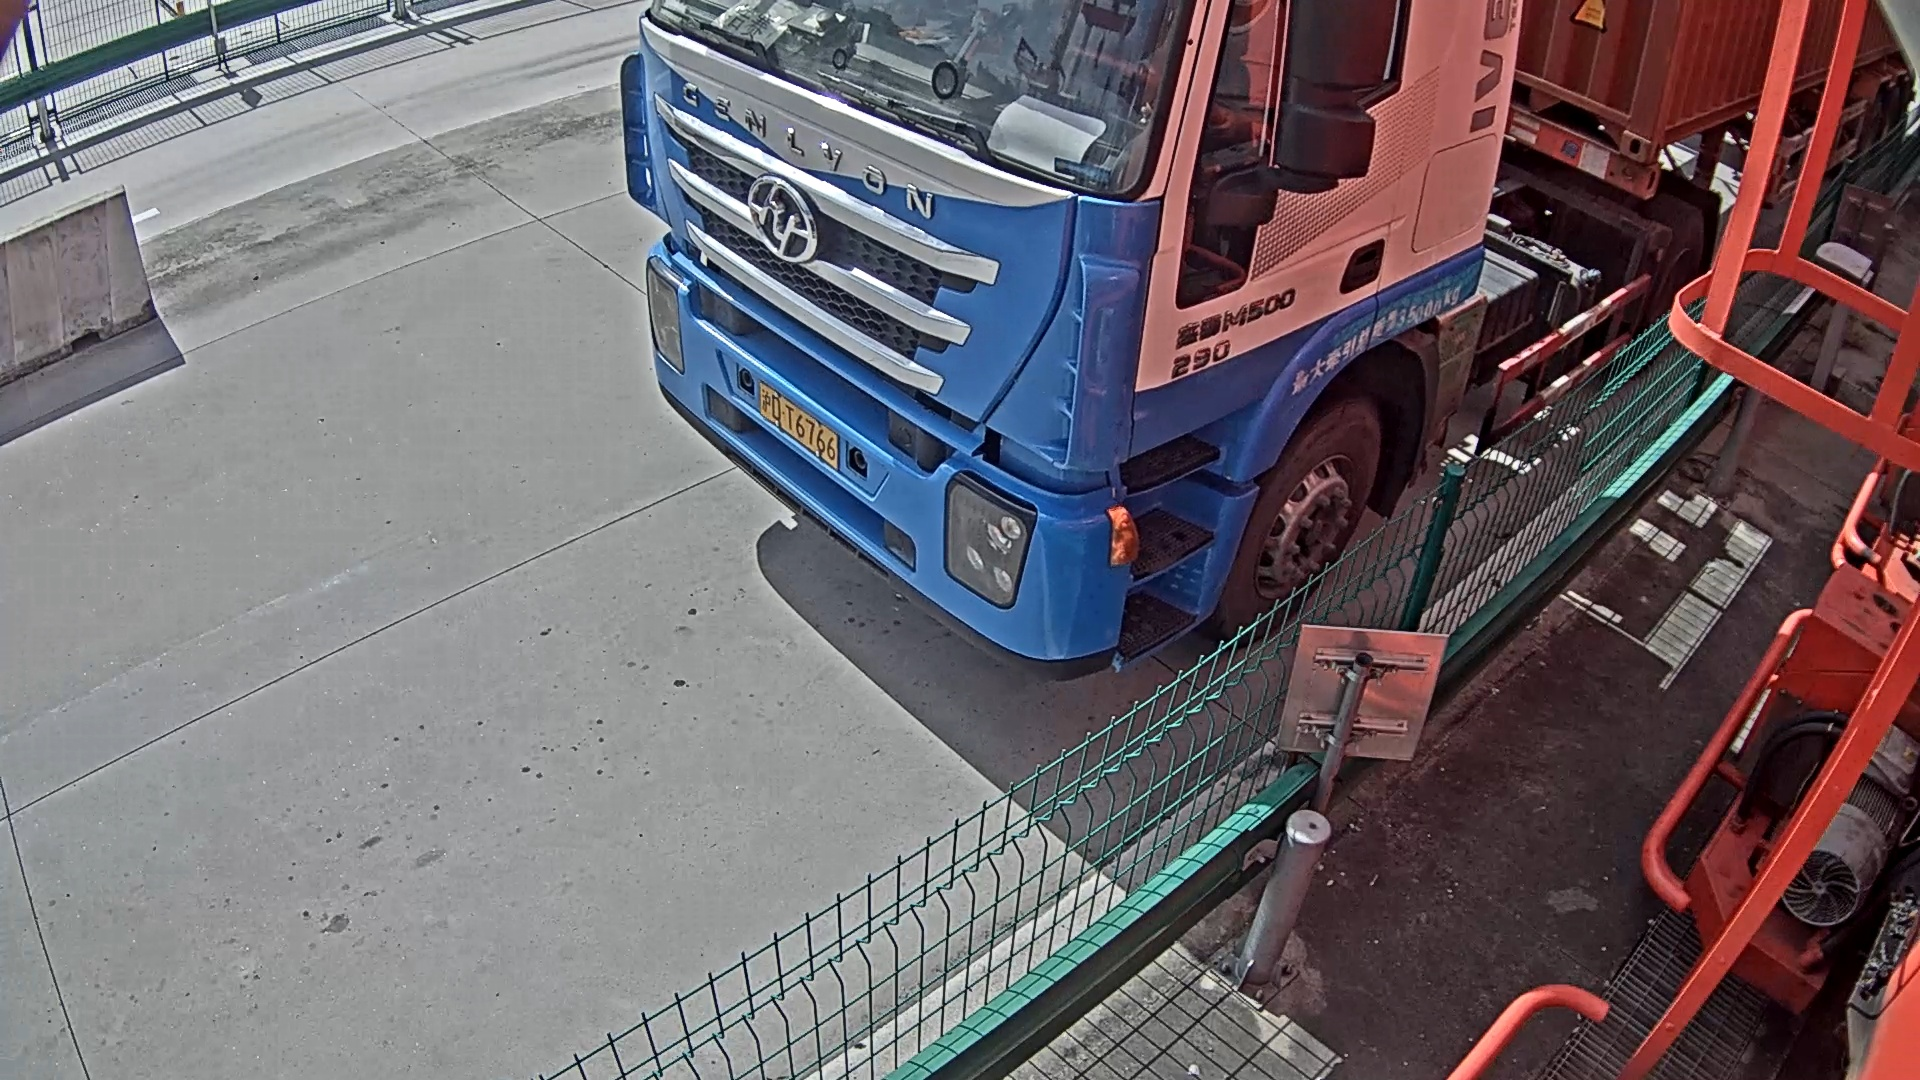head: (628, 1, 1516, 679)
plate: (758, 376, 843, 472)
